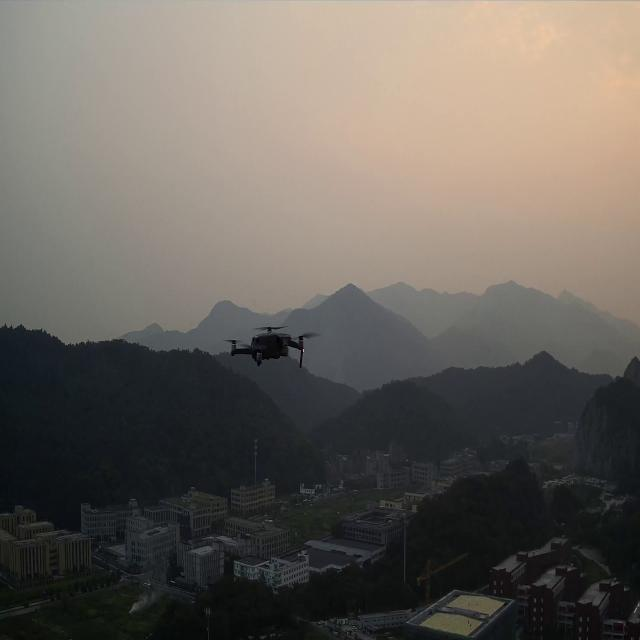UAV: (223, 326, 321, 369)
